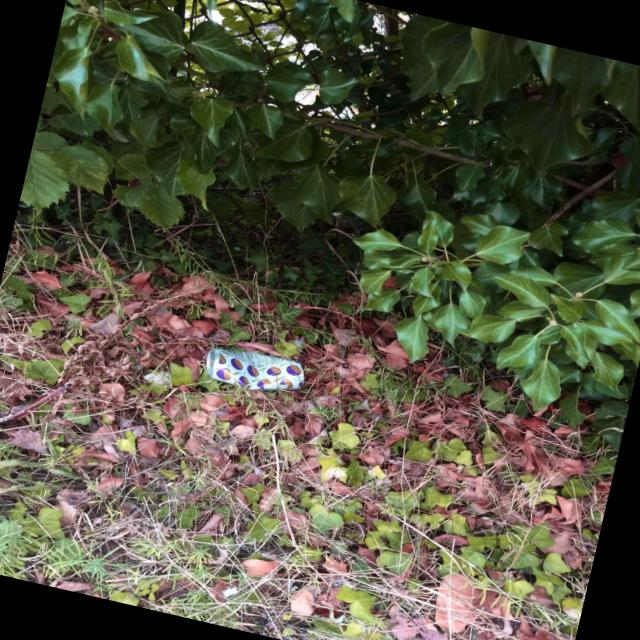less trash: (205, 348, 304, 390)
